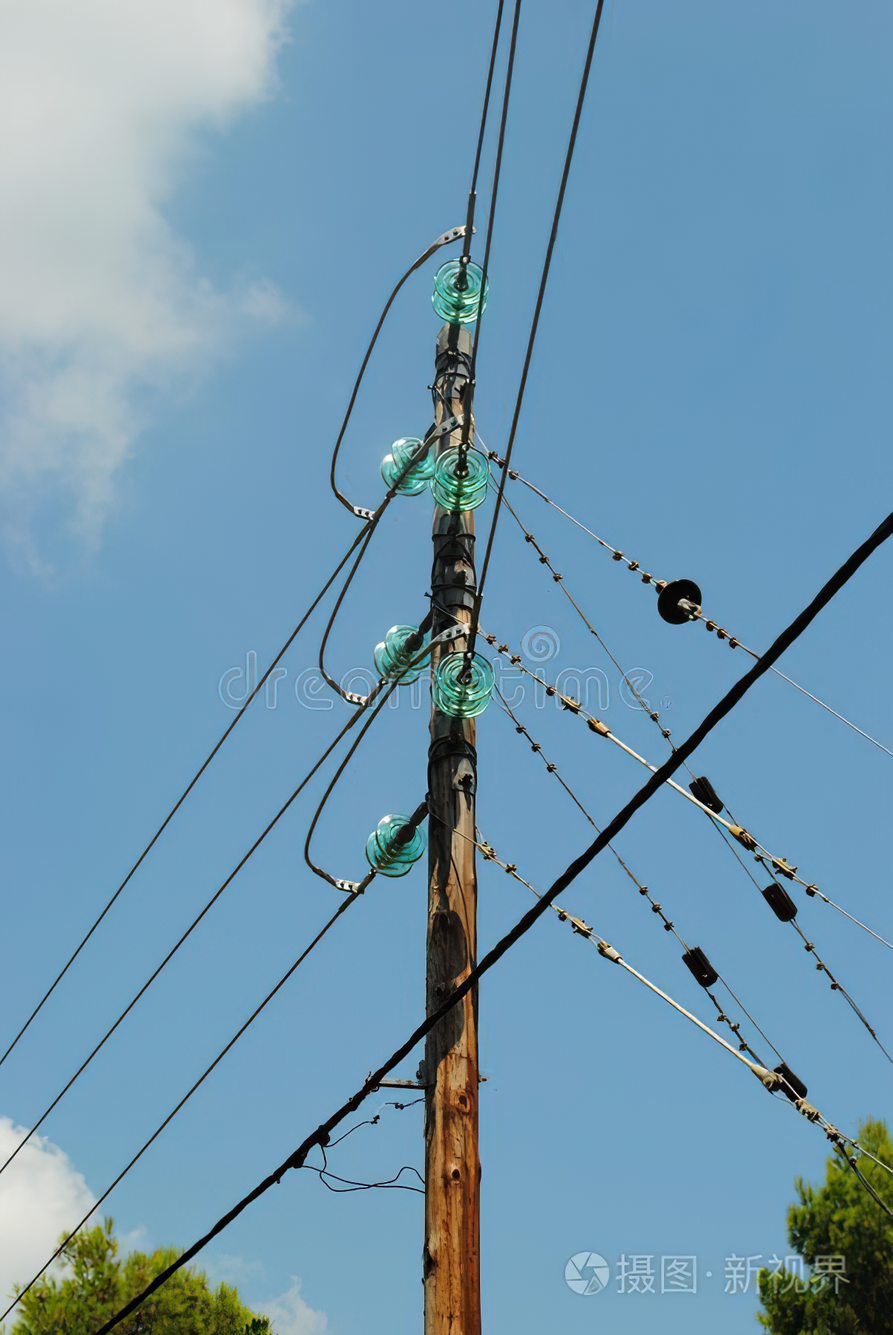insulator: (429, 258, 489, 326), (433, 654, 495, 717), (372, 626, 430, 690), (379, 439, 435, 503), (432, 450, 489, 512), (363, 813, 418, 877)
